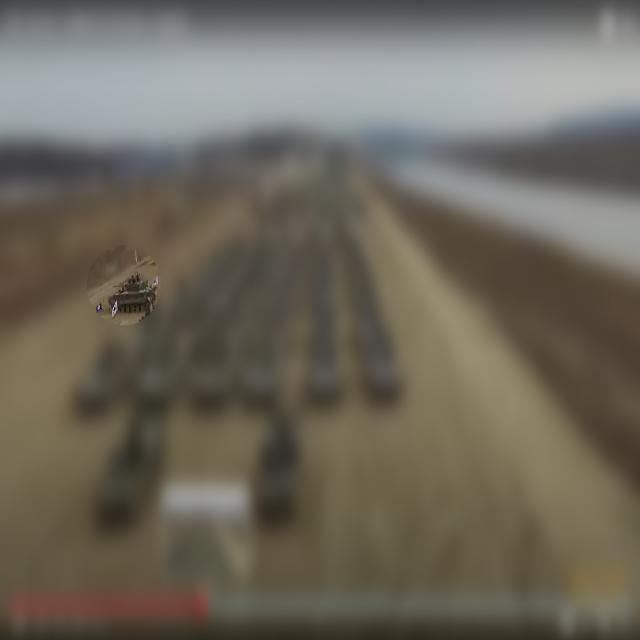tank: (103, 267, 160, 318)
